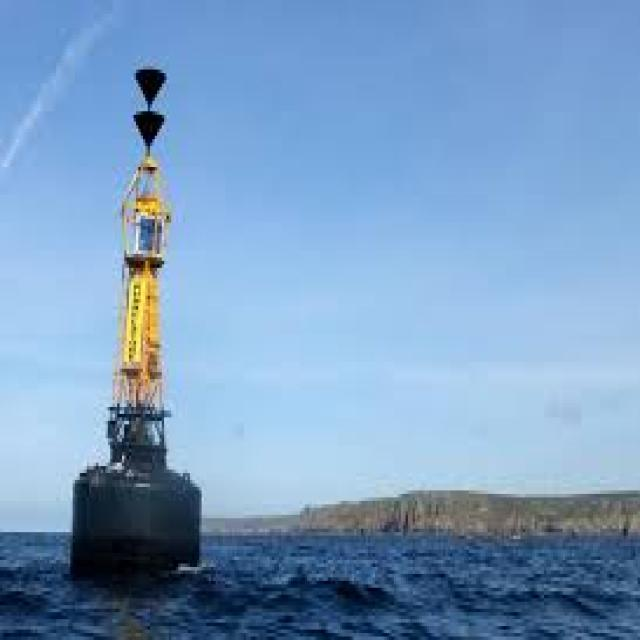buoy: (69, 34, 212, 582)
